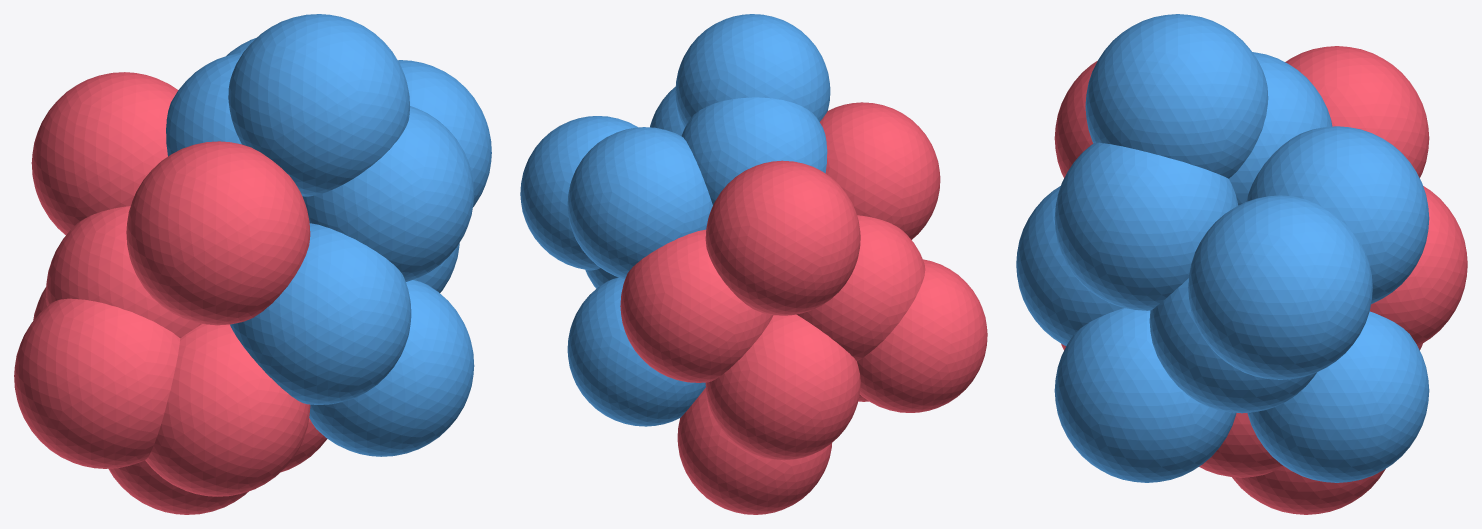
The model's file is modelo.glb.
3 renders of one model, left to right at view 1: azimuth 30°, elevation 25°; view 2: azimuth 150°, elevation 25°; view 3: azimuth 270°, elevation 25°, orthographic. The views are drawn at different scales.
Visible parts, largest first — view 1: proton_9, neutron_18, proton_17, neutron_6, proton_11, proton_13, neutron_8, neutron_10, proton_3, neutron_16, neutron_4, proton_19 (+2 smaller); view 2: proton_13, proton_15, neutron_12, proton_7, proton_17, neutron_18, proton_9, neutron_14, neutron_4, proton_19, proton_3, neutron_16 (+1 smaller); view 3: neutron_16, neutron_18, neutron_8, neutron_10, neutron_14, neutron_12, proton_13, neutron_2, neutron_6, proton_7, neutron_4, proton_19 (+2 smaller).
Part boxes in pixels (bbox=[...]): proton_9: bbox=[126, 141, 310, 325]; neutron_18: bbox=[228, 14, 409, 196]; proton_17: bbox=[14, 298, 180, 468]; neutron_6: bbox=[230, 223, 411, 404]; proton_11: bbox=[145, 324, 310, 496]; proton_13: bbox=[31, 72, 178, 234]; neutron_8: bbox=[302, 106, 474, 281]; neutron_10: bbox=[309, 280, 474, 456]; proton_3: bbox=[46, 206, 202, 338]; neutron_16: bbox=[398, 60, 491, 206]; neutron_4: bbox=[166, 52, 242, 156]; proton_19: bbox=[108, 460, 248, 514]; proton_13: bbox=[705, 160, 860, 315]; proton_15: bbox=[705, 314, 860, 460]; neutron_12: bbox=[567, 127, 712, 279]; proton_7: bbox=[620, 229, 773, 382]; proton_17: bbox=[857, 259, 987, 412]; neutron_18: bbox=[675, 14, 830, 127]; proton_9: bbox=[820, 102, 940, 239]; neutron_14: bbox=[567, 277, 705, 426]; neutron_4: bbox=[681, 97, 827, 204]; proton_19: bbox=[677, 387, 831, 514]; proton_3: bbox=[796, 215, 925, 360]; neutron_16: bbox=[520, 116, 637, 270]; neutron_16: bbox=[1188, 195, 1372, 379]; neutron_18: bbox=[1085, 14, 1268, 178]; neutron_8: bbox=[1054, 142, 1238, 310]; neutron_10: bbox=[1054, 308, 1236, 482]; neutron_14: bbox=[1247, 311, 1429, 482]; neutron_12: bbox=[1246, 126, 1429, 304]; proton_13: bbox=[1285, 46, 1429, 177]; neutron_2: bbox=[1149, 278, 1316, 413]; neutron_6: bbox=[1016, 186, 1123, 345]; proton_7: bbox=[1370, 186, 1467, 345]; neutron_4: bbox=[1229, 52, 1332, 205]; proton_19: bbox=[1232, 465, 1385, 514].
Size of the model in its own units: 0.222 by 0.222 by 0.176.
